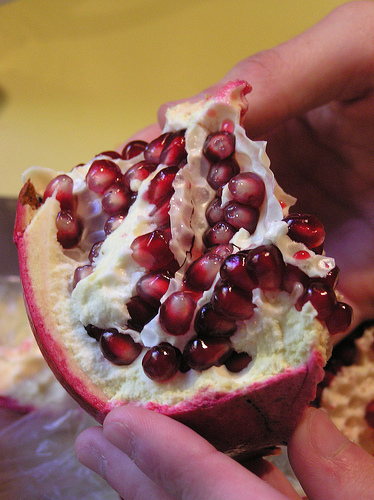pomogranate: (16, 81, 353, 416)
